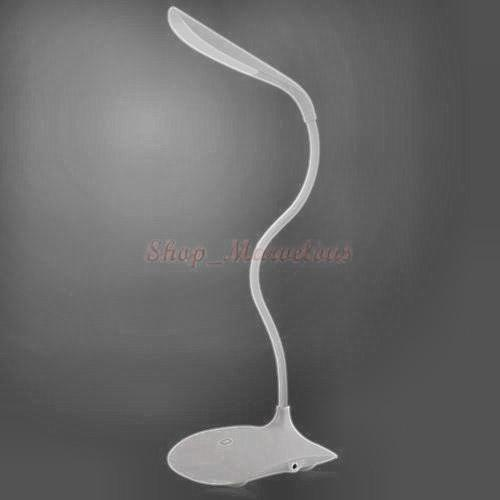lamp: (160, 10, 355, 479)
